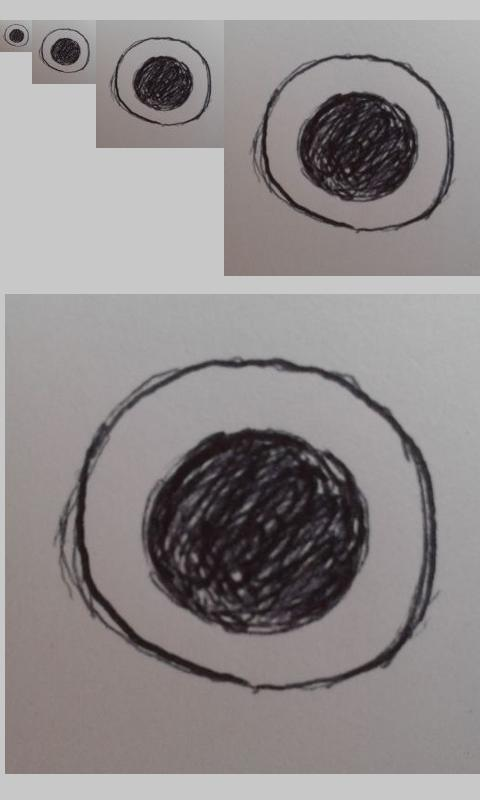radio_button: (65, 355, 438, 695), (258, 52, 456, 234), (112, 35, 212, 127), (40, 27, 92, 74), (3, 23, 29, 48)
